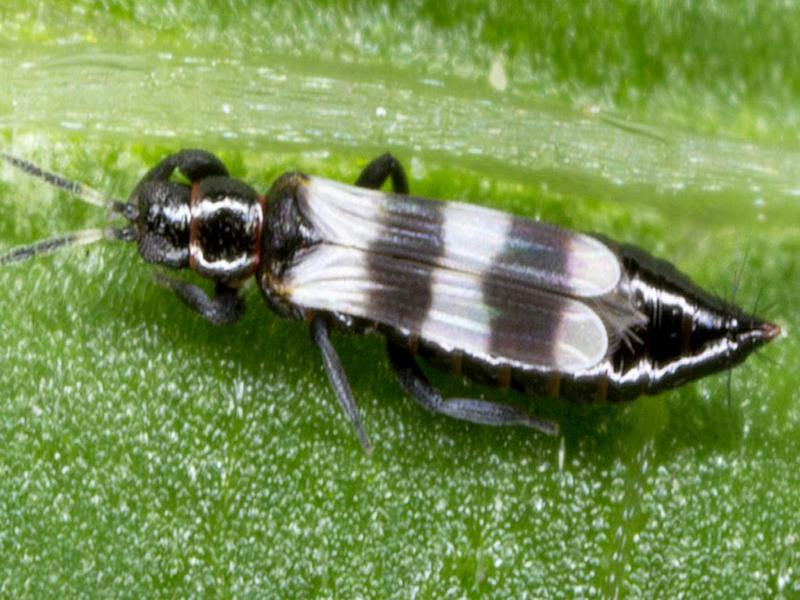Thrips: (116, 139, 773, 464)
